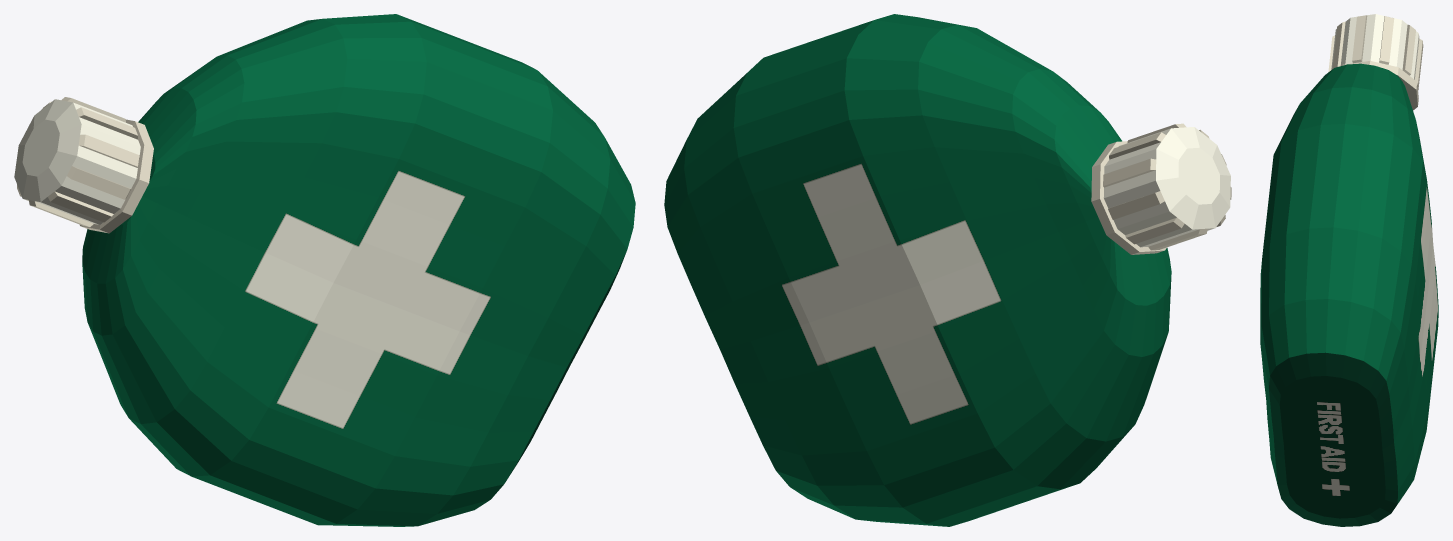
Rendered from MedicinalCanteen.fbx.
The picture shows the model from 3 angles, left to right: view 1: azimuth 30°, elevation 25°; view 2: azimuth 150°, elevation 25°; view 3: azimuth 270°, elevation 25°; orthographic projection. The views are drawn at different scales.
Parts seen in each view (by area): view 1: ZomboidMedicinalCanteen; view 2: ZomboidMedicinalCanteen; view 3: ZomboidMedicinalCanteen.
Boxes of the visible parts, box(x1,y1,x2,y2) form: ZomboidMedicinalCanteen: box(14, 14, 635, 526); ZomboidMedicinalCanteen: box(664, 14, 1231, 526); ZomboidMedicinalCanteen: box(1260, 14, 1438, 526).
Bounding box in the file's own units: 0.1058 × 0.0901 × 0.0364.
